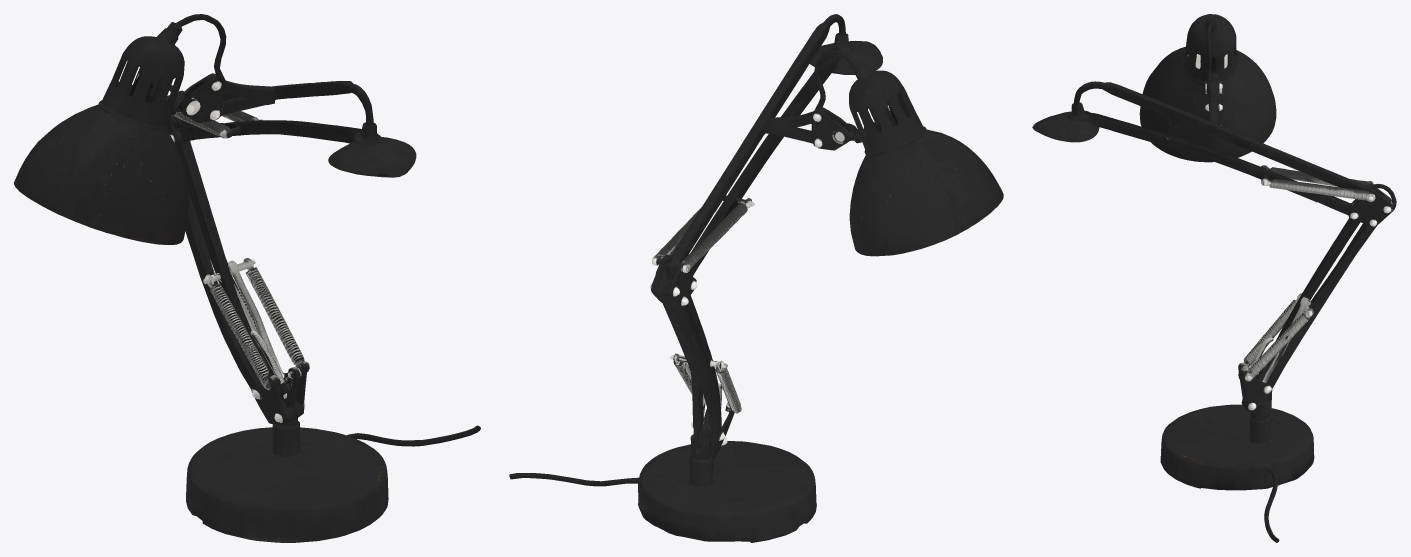
File: lamp.glb
3 renders of one model, left to right at view 1: azimuth 30°, elevation 25°; view 2: azimuth 150°, elevation 25°; view 3: azimuth 270°, elevation 25°, orthographic. The views are drawn at different scales.
Parts seen in each view (by area): view 1: Mesh_0; view 2: Mesh_0; view 3: Mesh_0.
Part boxes in pixels (box(x1,y1,x2,y2)): Mesh_0: box(14, 14, 480, 542); Mesh_0: box(509, 14, 1003, 542); Mesh_0: box(1032, 14, 1396, 542).
Bounding box in the file's own units: 1.87 × 1.9 × 1.57.
1 material, 1 textured.
